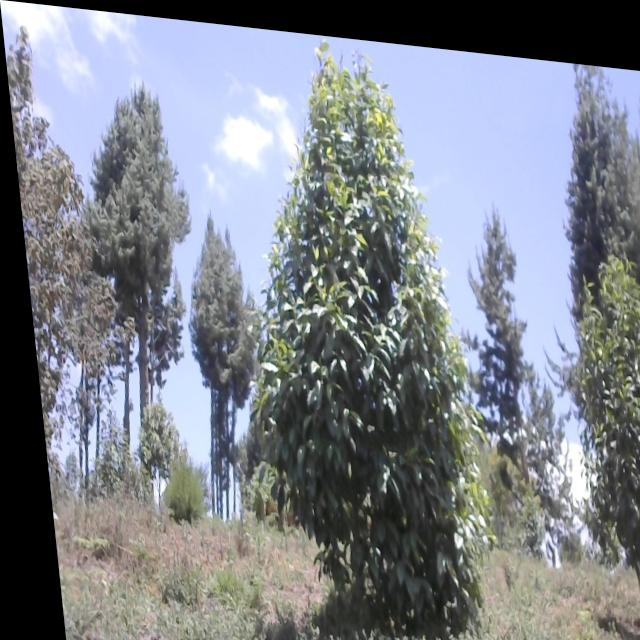Hass Avocado: (230, 38, 484, 637), (557, 239, 640, 623)
cedrus: (72, 68, 200, 406), (451, 186, 543, 469), (178, 192, 264, 464), (553, 48, 640, 257)
